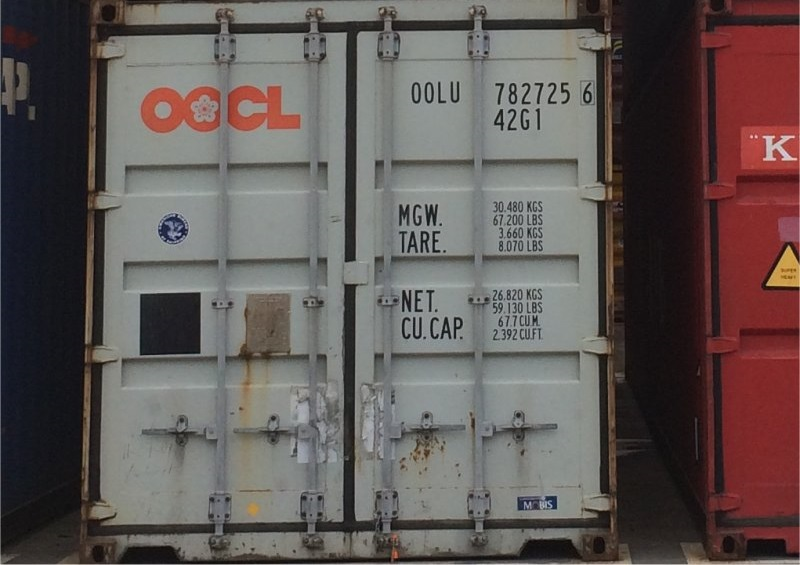container_door: (88, 1, 616, 556)
